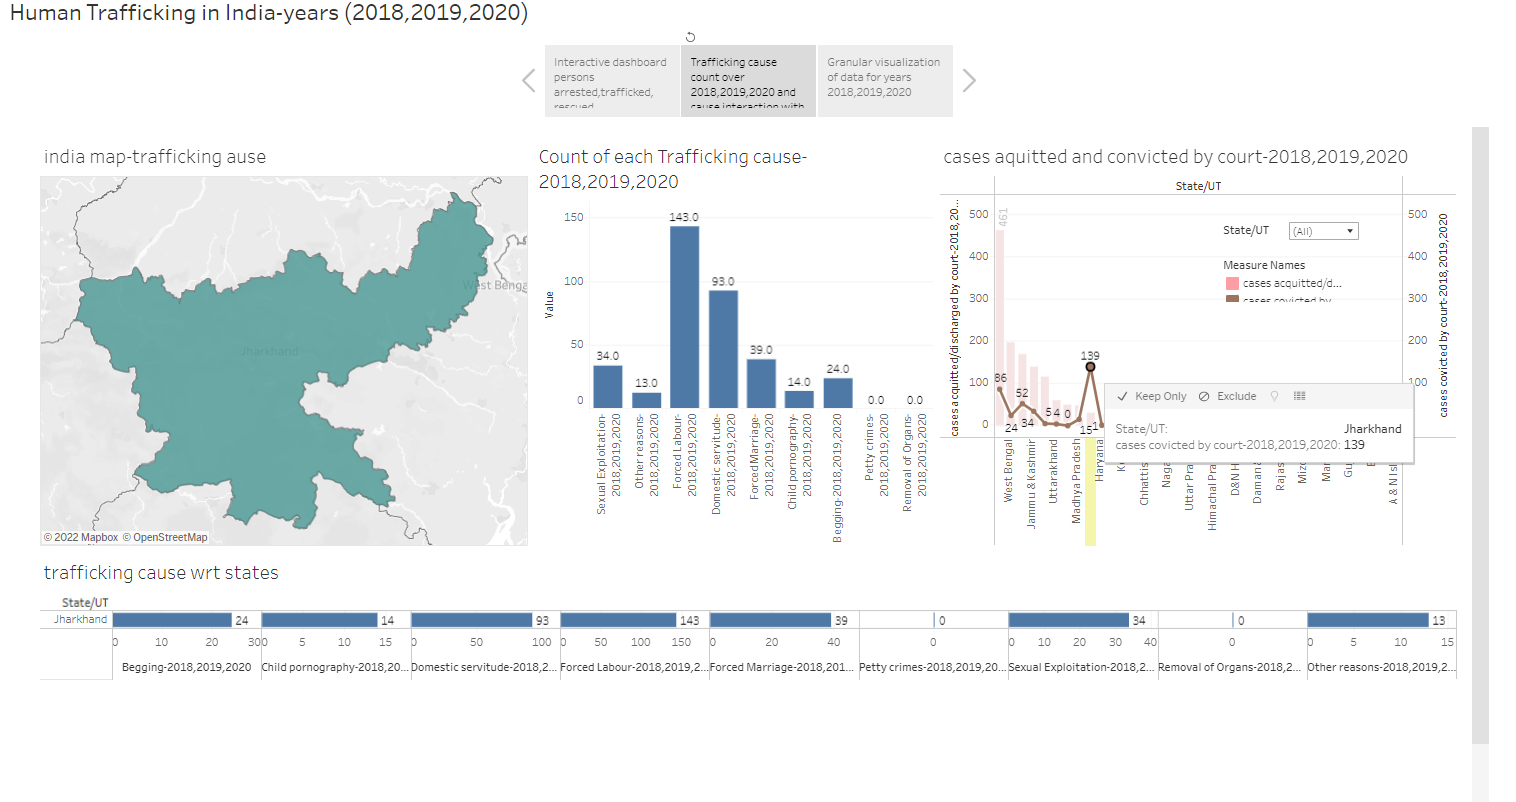

The dashboard page shown, as its layout file describes it:
{"tool":"tableau","page":{"name":"Traffickingcause","canvas":[1600,940],"ordinal":2},"visuals":[{"type":"worksheet","title":"india map-trafficking ause","mark":"Multipolygon","box":[8,8,550,462]},{"type":"worksheet","title":"Trafficking cause","mark":"Bar","box":[558,8,450,462]},{"type":"worksheet","title":"cases aquitted and convicted by court-2018,2019,2020","mark":"Automatic","rows":["Calculation_373235858738429952","Calculation_373235858738765825"],"cols":["State/UT"],"box":[1008,8,584,462]},{"type":"filter","title":"Trafficking cause","param":"[federated.0geqzg31s3aejp16zut9q1ccewkb].[none:State/UT:nk]","box":[1323,102,160,39]},{"type":"legend","title":"cases aquitted and convicted by court-2018,2019,2020","param":"[federated.0geqzg31s3aejp16zut9q1ccewkb].[:Measure Names]","box":[1323,141,160,58]},{"type":"worksheet","title":"trafficking cause wrt states","mark":"Automatic","rows":["State/UT"],"cols":["Calculation_589127162496077828","Calculation_589127162496225285","Calculation_589127162497273862","Calculation_589127162497564679","Calculation_589127162497957896","Calculation_589127162498162697","Calculation_589127162498457611","Calculation_589127162498306058","Calculation_589127162498609164"],"box":[8,470,1584,462]}]}

Visuals, with their boxes on the page's 1600x940 design canvas (x1, y1, x2, y2). These are canvas units, not pixel positions in the 1516x802 screenshot, which may show the page scaled, cropped or inside an application window:
"india map-trafficking ause" worksheet (Multipolygon marks): {"x1": 8, "y1": 8, "x2": 558, "y2": 470}
"Trafficking cause" worksheet (Bar marks): {"x1": 558, "y1": 8, "x2": 1008, "y2": 470}
"cases aquitted and convicted by court-2018,2019,2020" worksheet: {"x1": 1008, "y1": 8, "x2": 1592, "y2": 470}
"Trafficking cause" filter: {"x1": 1323, "y1": 102, "x2": 1483, "y2": 141}
"cases aquitted and convicted by court-2018,2019,2020" legend: {"x1": 1323, "y1": 141, "x2": 1483, "y2": 199}
"trafficking cause wrt states" worksheet: {"x1": 8, "y1": 470, "x2": 1592, "y2": 932}
